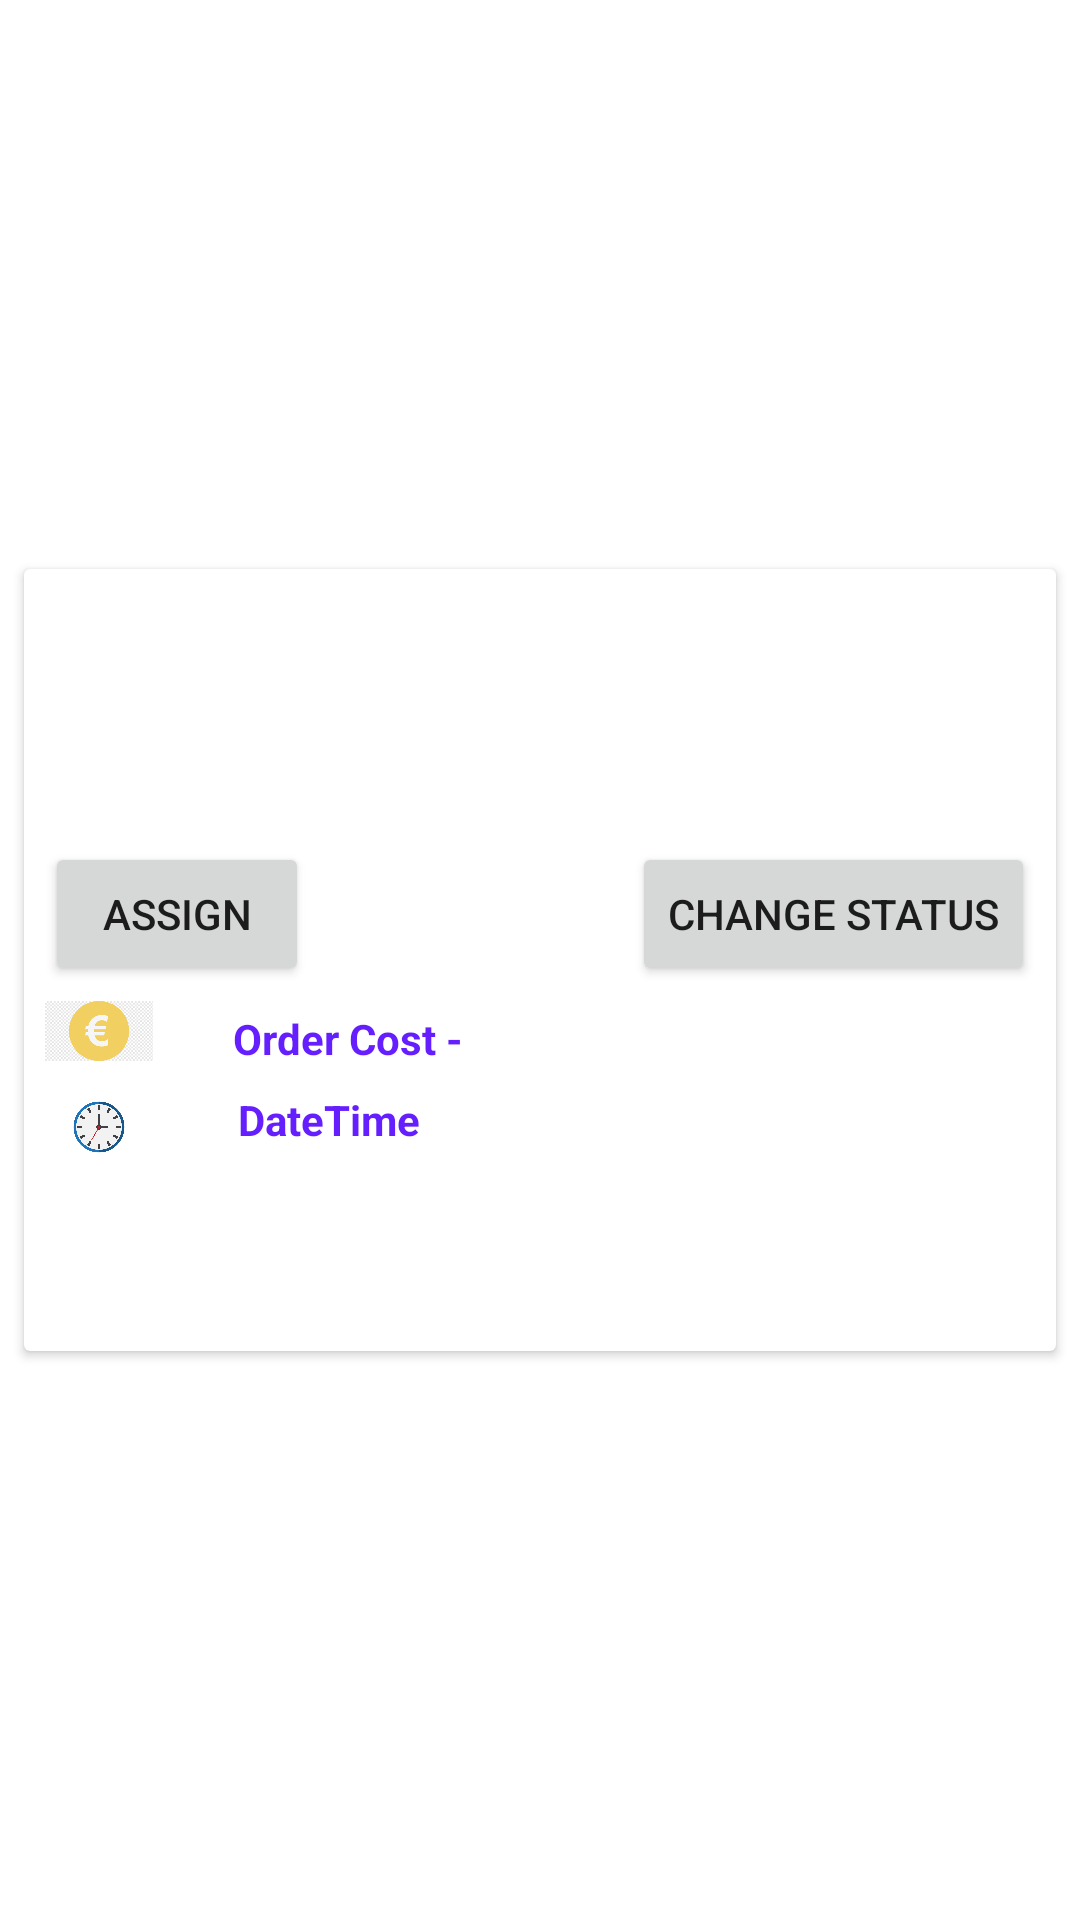

Screen size 1080*1920. Icon name, then its center in pixels as [x,y]:
clock: [99,1127]
money: [98,1031]
